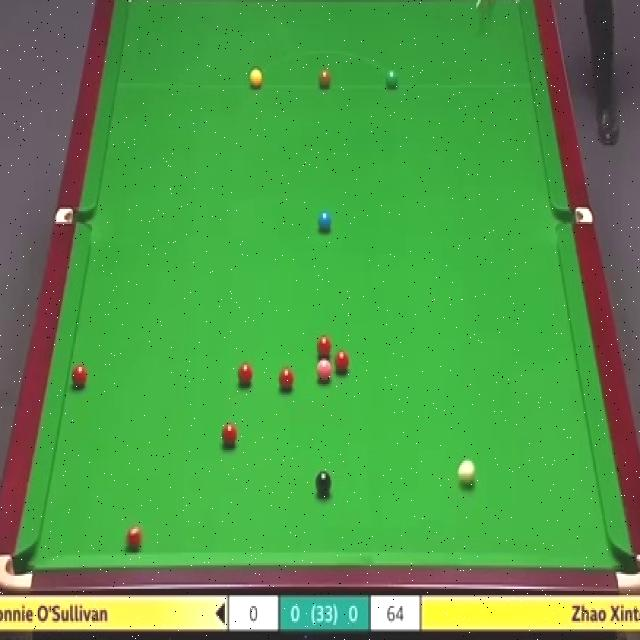black-ball: (316, 469, 332, 498)
blue-ball: (319, 212, 332, 235)
brown-ball: (318, 71, 332, 90)
green-ball: (386, 69, 398, 89)
pink-ball: (315, 358, 332, 385)
red-ball: (70, 363, 90, 390), (125, 525, 144, 553), (315, 332, 334, 358), (220, 422, 237, 448), (333, 346, 349, 373), (237, 362, 253, 387), (277, 369, 293, 391)
white-ball: (458, 457, 477, 487)
yellow-ball: (249, 67, 264, 90)
